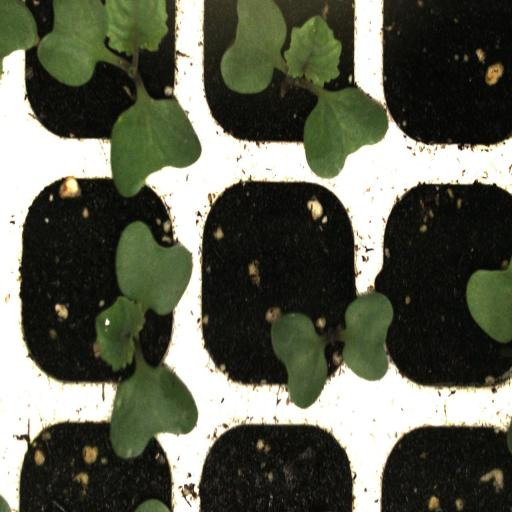Folha: (110, 85, 201, 198), (271, 312, 328, 409), (341, 291, 394, 381), (466, 262, 512, 343)
Germinacao: (14, 176, 193, 400), (195, 176, 371, 402), (192, 0, 371, 167), (19, 0, 195, 169)
